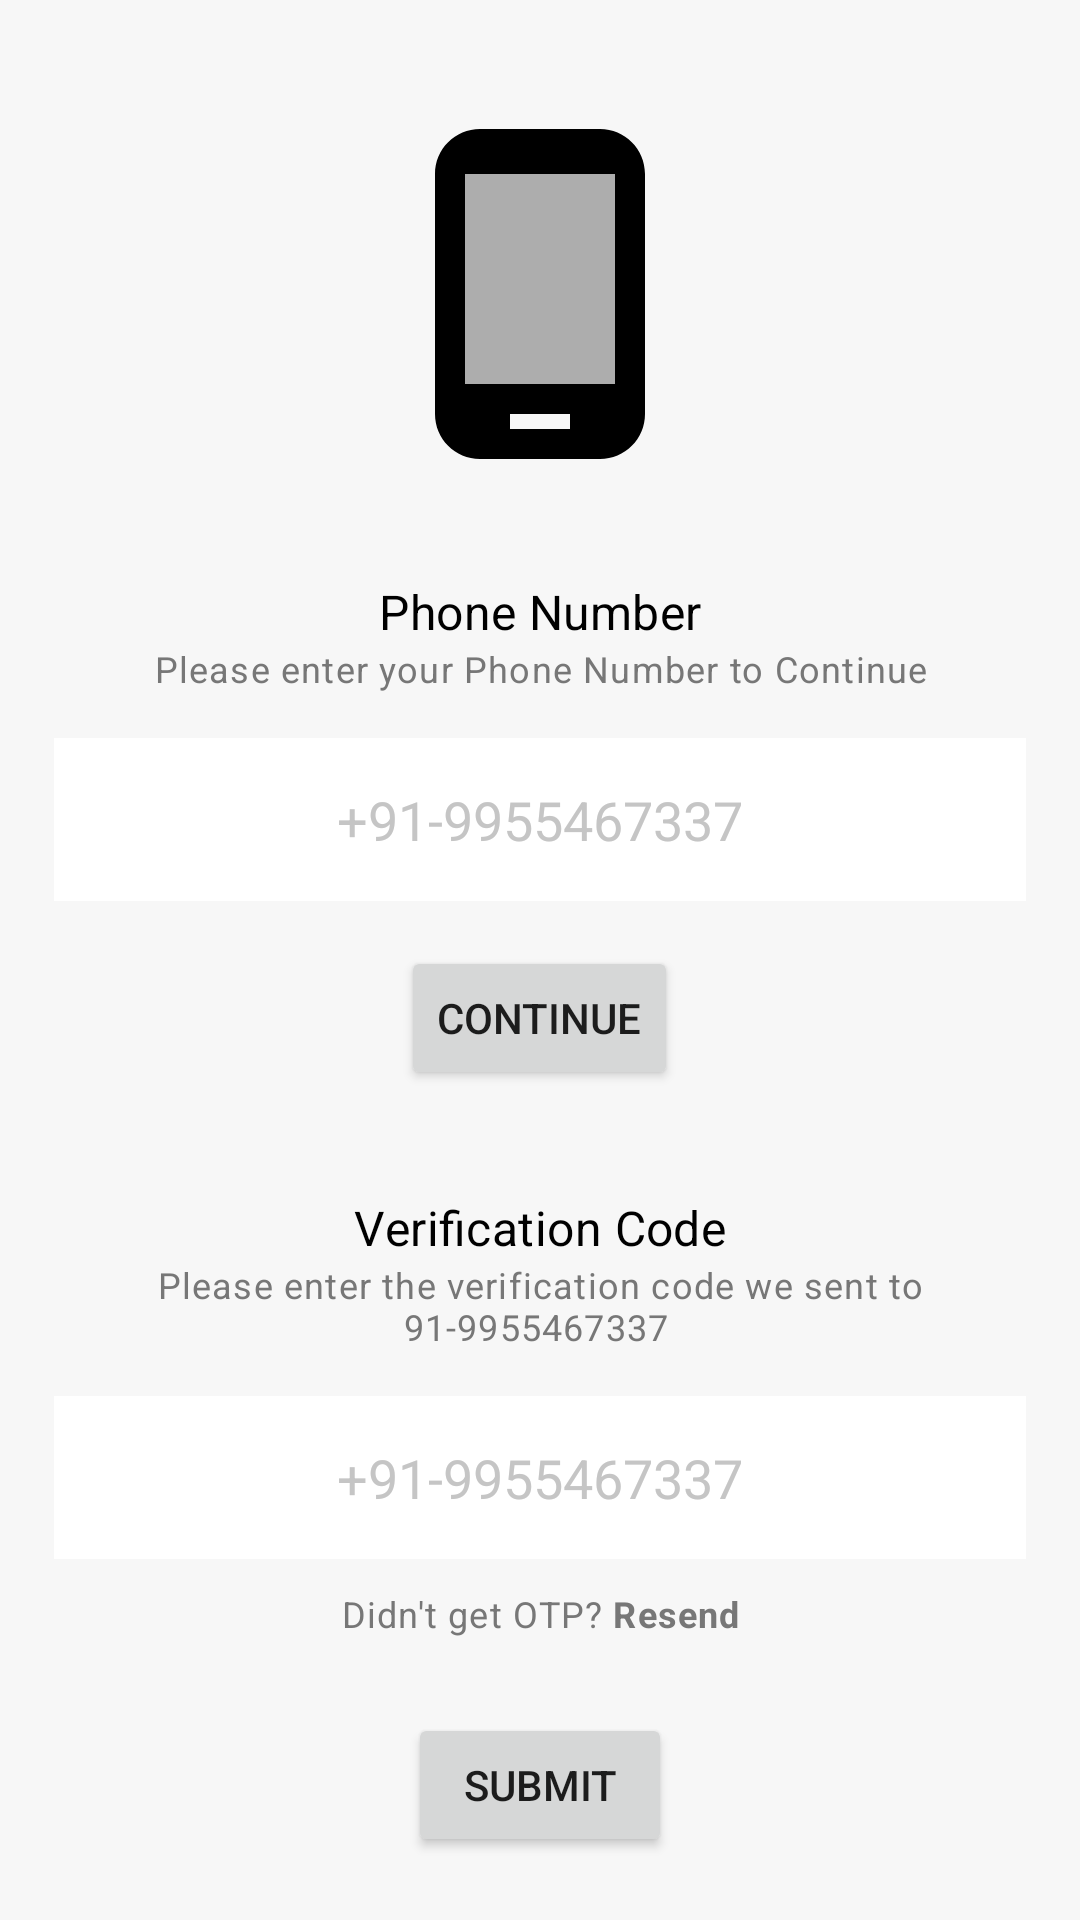

Icons on this 1080px×1920px Android screen, each with its box as (x1, y1, x2, y2):
phone android: (435, 129, 645, 459)
